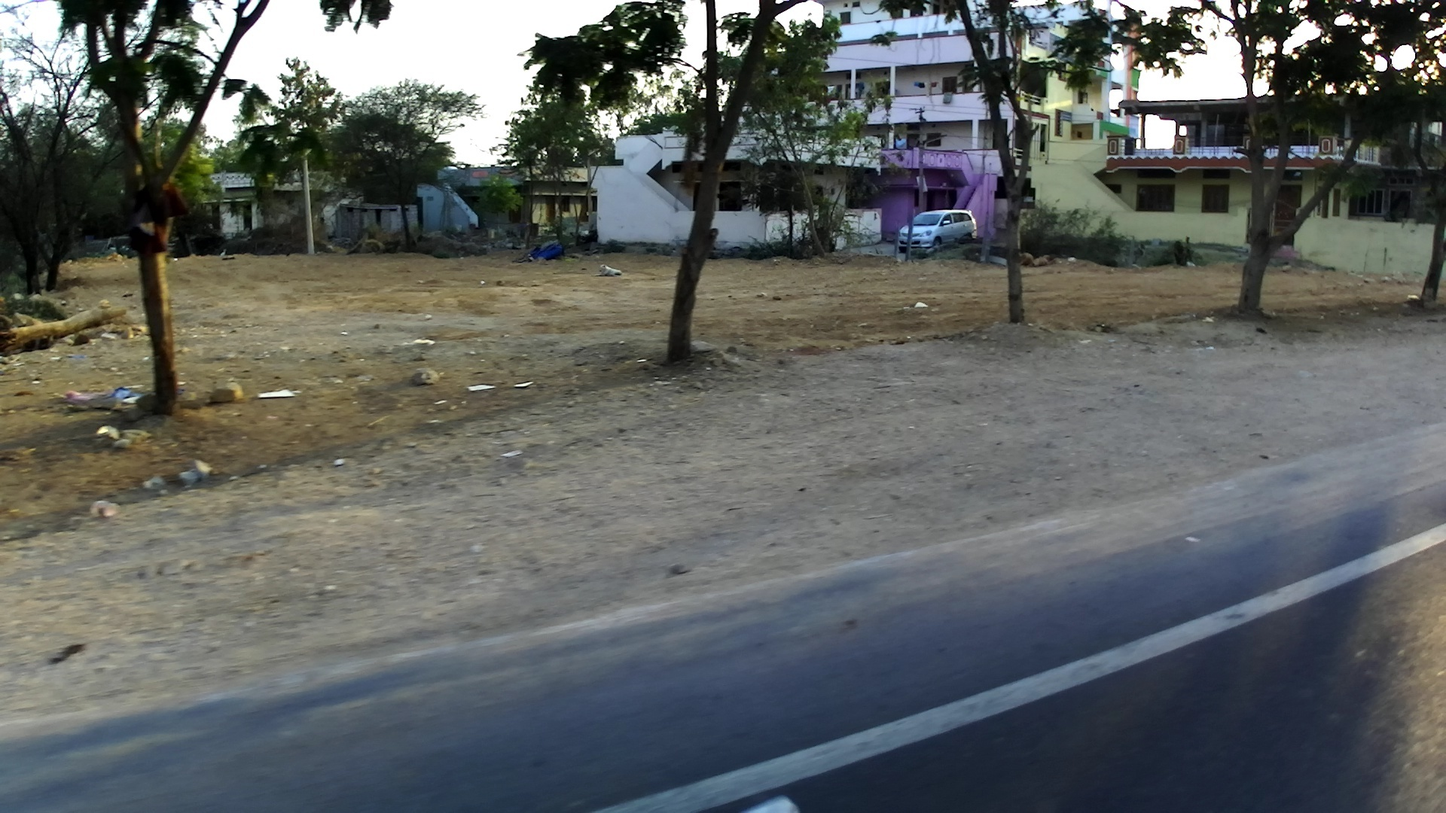car: (891, 198, 984, 263)
